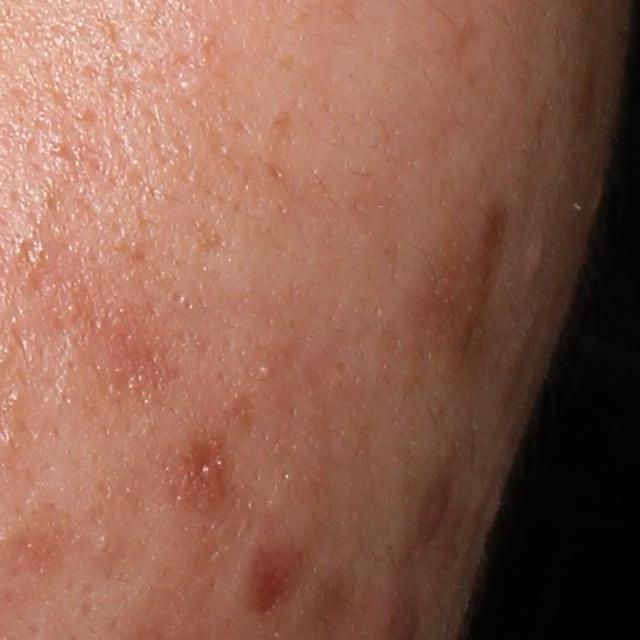comedo: (92, 531, 115, 554), (259, 363, 275, 380)
